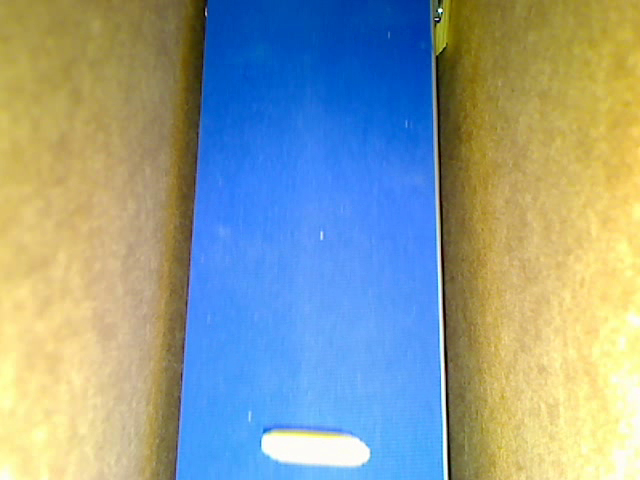penne: (255, 427, 374, 467)
